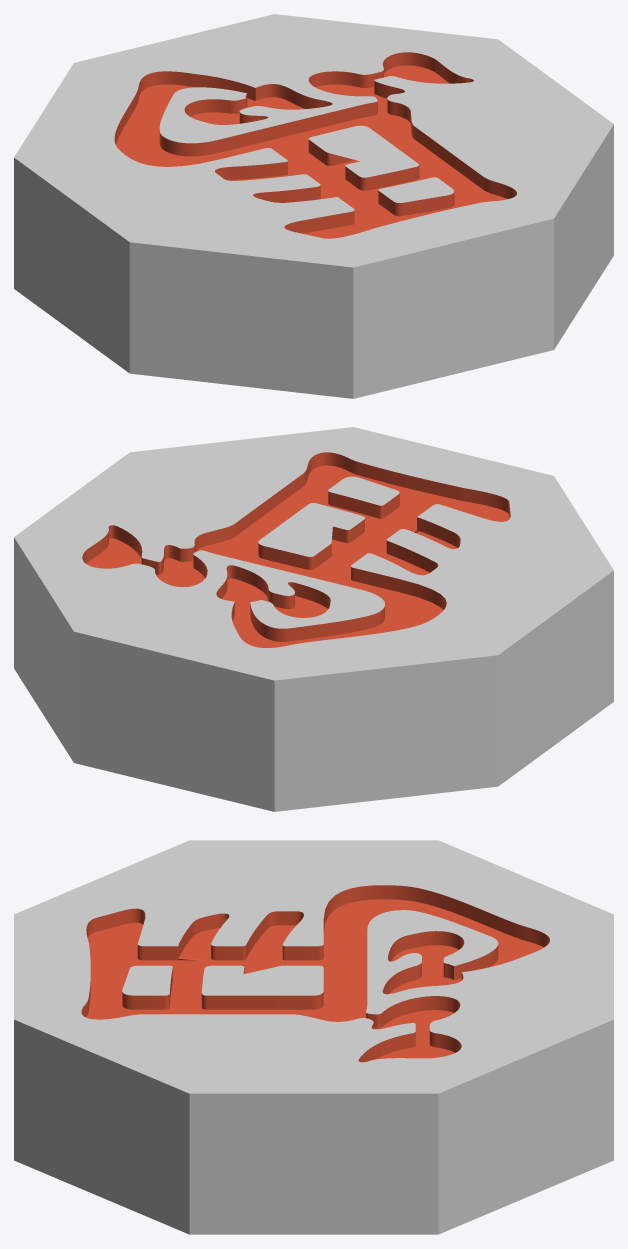
3 renders of one model, top to bottom at view 1: azimuth 30°, elevation 25°; view 2: azimuth 150°, elevation 25°; view 3: azimuth 270°, elevation 25°, orthographic. The views are drawn at different scales.
Visible parts, largest first — view 1: 한_마; view 2: 한_마; view 3: 한_마.
Part boxes in pixels (x1=…): 한_마: x1=14, y1=14, x2=613, y2=398; 한_마: x1=14, y1=427, x2=613, y2=811; 한_마: x1=14, y1=840, x2=613, y2=1234.
Size of the model in its own units: 2700 by 700 by 2700.
